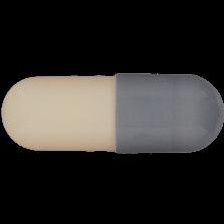0093-7384: (0, 0, 224, 224)
